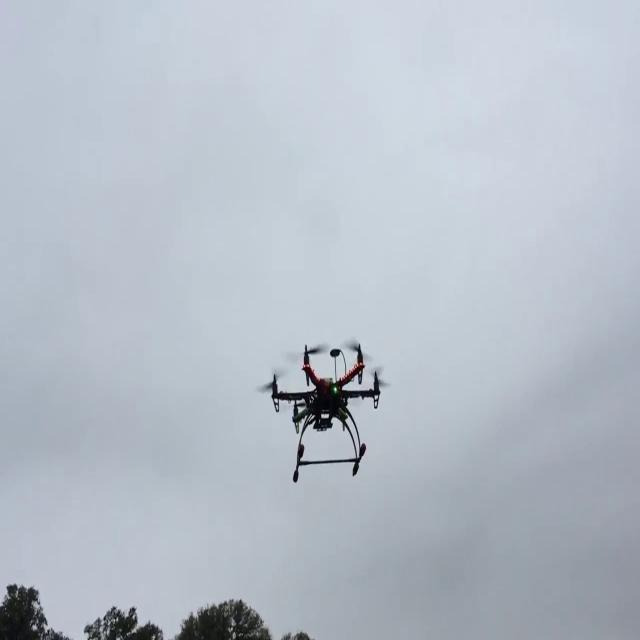drone: (239, 333, 408, 496)
